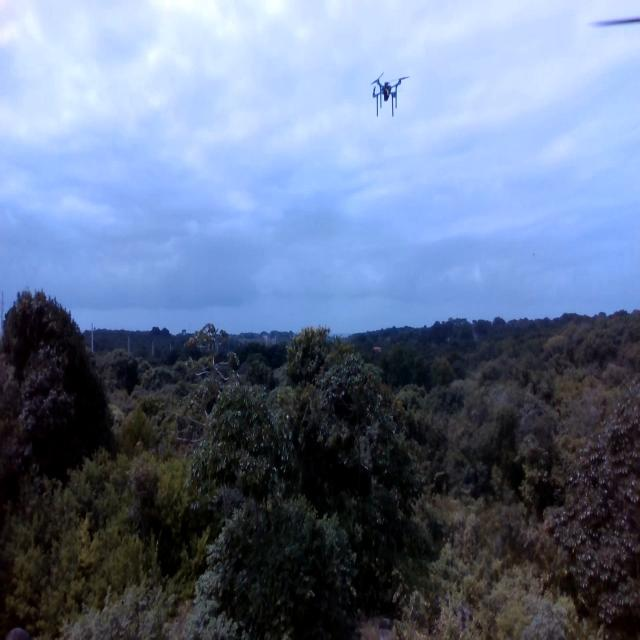-uav-: (364, 73, 411, 123)
